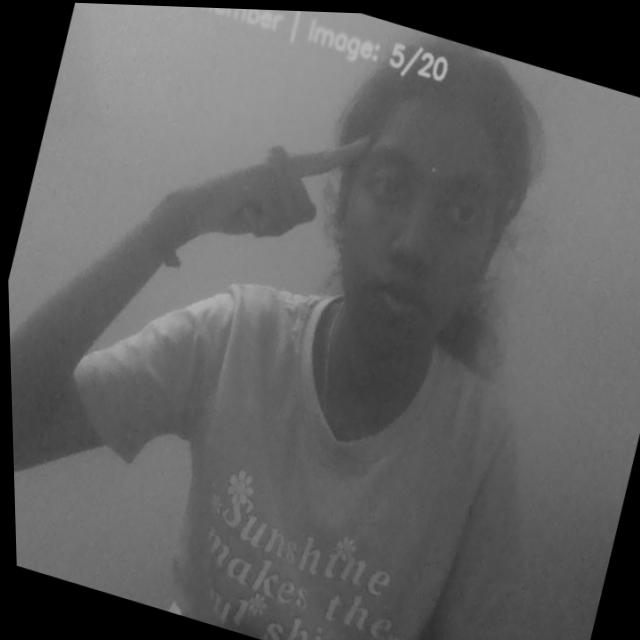Remember: (136, 68, 376, 308)
